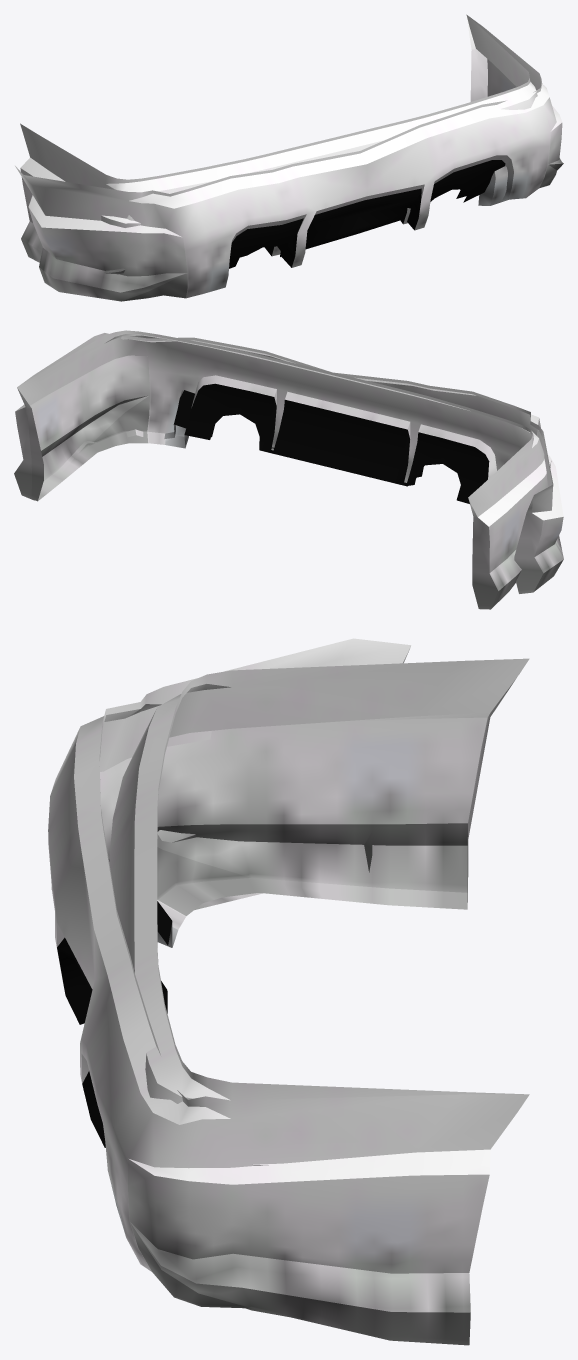
The model's file is rbmp_c_l.glb.
The picture shows the model from 3 angles, top to bottom: view 1: azimuth 30°, elevation 25°; view 2: azimuth 150°, elevation 25°; view 3: azimuth 270°, elevation 25°; orthographic projection. The views are drawn at different scales.
Visible parts, largest first — view 1: rbmp_c_l_dam, rbmp_c_l; view 2: rbmp_c_l, rbmp_c_l_dam; view 3: rbmp_c_l_dam, rbmp_c_l.
Boxes of the visible parts, bbox=[...] form: rbmp_c_l_dam: bbox=[15, 16, 563, 301]; rbmp_c_l: bbox=[20, 14, 537, 274]; rbmp_c_l: bbox=[17, 330, 551, 609]; rbmp_c_l_dam: bbox=[14, 333, 563, 593]; rbmp_c_l_dam: bbox=[48, 638, 529, 1345]; rbmp_c_l: bbox=[109, 658, 529, 1316].
Bounding box in the file's own units: 2.4 × 0.5641 × 0.9889.
Materials: 2 (1 with a texture image).
